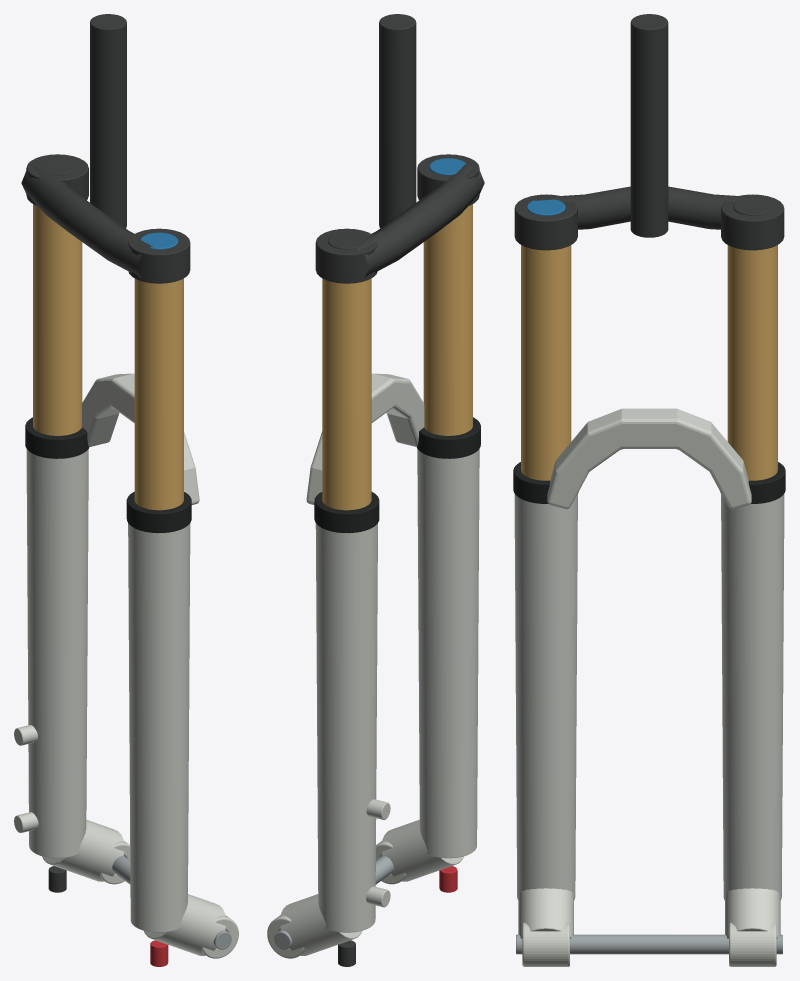
The model's file is fox-38-factory-my27--3690d463.glb.
3 renders of one model, left to right at view 1: azimuth 30°, elevation 25°; view 2: azimuth 150°, elevation 25°; view 3: azimuth 270°, elevation 25°, orthographic.
Visible parts, largest first — view 1: fox-38-factory-my27--3690d463__frame, fox-38-factory-my27--3690d463__stanchions, fox-38-factory-my27--3690d463__link, fox-38-factory-my27--3690d463__protection, fox-38-factory-my27--3690d463__bolts, fox-38-factory-my27--3690d463__adjuster; view 2: fox-38-factory-my27--3690d463__frame, fox-38-factory-my27--3690d463__stanchions, fox-38-factory-my27--3690d463__link, fox-38-factory-my27--3690d463__protection, fox-38-factory-my27--3690d463__bolts, fox-38-factory-my27--3690d463__adjuster; view 3: fox-38-factory-my27--3690d463__frame, fox-38-factory-my27--3690d463__stanchions, fox-38-factory-my27--3690d463__link, fox-38-factory-my27--3690d463__bolts, fox-38-factory-my27--3690d463__protection.
Part boxes in pixels (<box>): fox-38-factory-my27--3690d463__frame: <box>14,373,238,958</box>; fox-38-factory-my27--3690d463__stanchions: <box>33,204,183,510</box>; fox-38-factory-my27--3690d463__link: <box>21,14,190,892</box>; fox-38-factory-my27--3690d463__protection: <box>25,417,191,533</box>; fox-38-factory-my27--3690d463__bolts: <box>112,856,231,949</box>; fox-38-factory-my27--3690d463__adjuster: <box>140,232,178,249</box>; fox-38-factory-my27--3690d463__frame: <box>267,373,479,958</box>; fox-38-factory-my27--3690d463__stanchions: <box>322,204,472,510</box>; fox-38-factory-my27--3690d463__link: <box>315,14,484,966</box>; fox-38-factory-my27--3690d463__protection: <box>314,417,480,533</box>; fox-38-factory-my27--3690d463__bolts: <box>274,856,393,949</box>; fox-38-factory-my27--3690d463__adjuster: <box>429,158,465,175</box>; fox-38-factory-my27--3690d463__frame: <box>514,408,784,966</box>; fox-38-factory-my27--3690d463__stanchions: <box>521,245,777,480</box>; fox-38-factory-my27--3690d463__link: <box>514,14,784,250</box>; fox-38-factory-my27--3690d463__bolts: <box>516,934,782,954</box>; fox-38-factory-my27--3690d463__protection: <box>513,462,785,503</box>.
Bounding box in the file's own units: 0.1 × 0.767 × 0.206.
